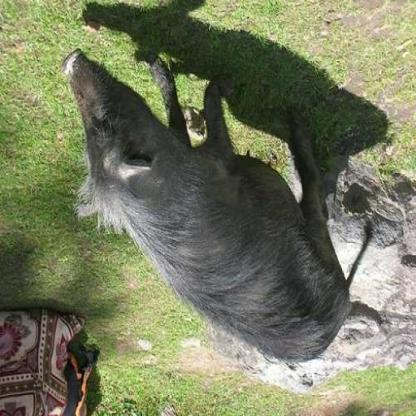boar: (33, 30, 398, 362)
